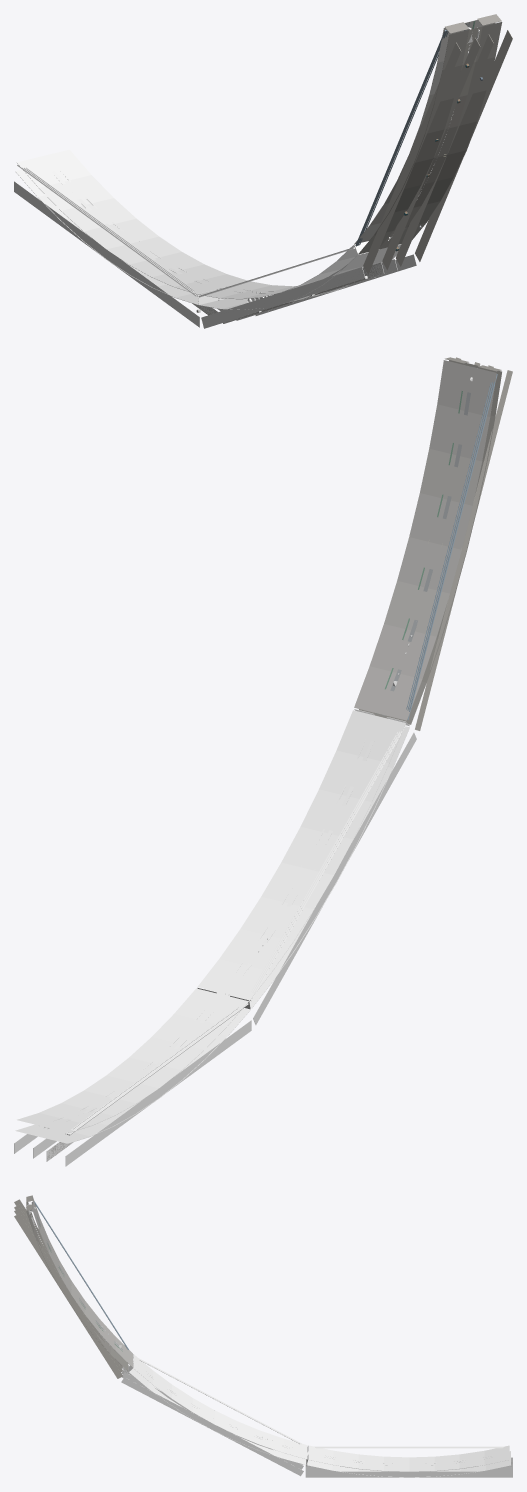
File: xuanshu_interior_C44.glb
3 views of the same model, one above another, from view 1: azimuth 30°, elevation 25°; view 2: azimuth 150°, elevation 25°; view 3: azimuth 270°, elevation 25° (orthographic). The views are drawn at different scales.
Parts seen in each view (by area): view 1: UNIT-FNR-002, UNIT-FNR-003; view 2: UNIT-FNR-002; view 3: UNIT-FNR-002.
Part boxes in pixels (x1,y1,x2,y2): UNIT-FNR-002: [14, 14, 512, 328]; UNIT-FNR-003: [193, 27, 479, 323]; UNIT-FNR-002: [14, 357, 512, 1166]; UNIT-FNR-002: [14, 1195, 512, 1477].
Size of the model in its own units: 17.31 by 150 by 253.
